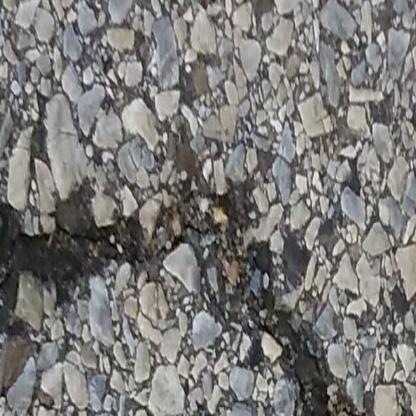Cracks: (0, 185, 395, 416)
